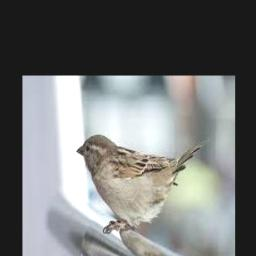Sparrow: (76, 135, 204, 233)
